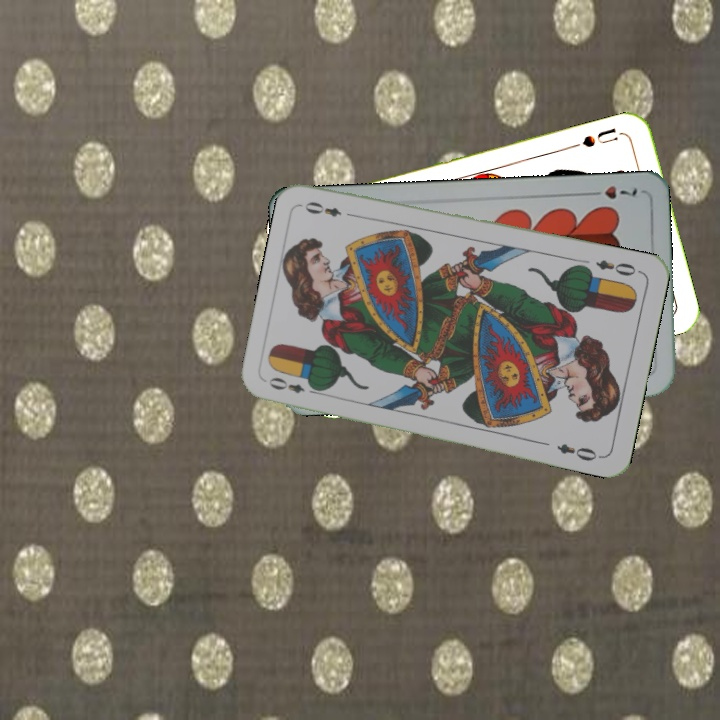EO: (264, 373, 322, 397), (592, 255, 644, 279)
H7: (583, 182, 641, 202)
SU: (578, 124, 621, 150)
